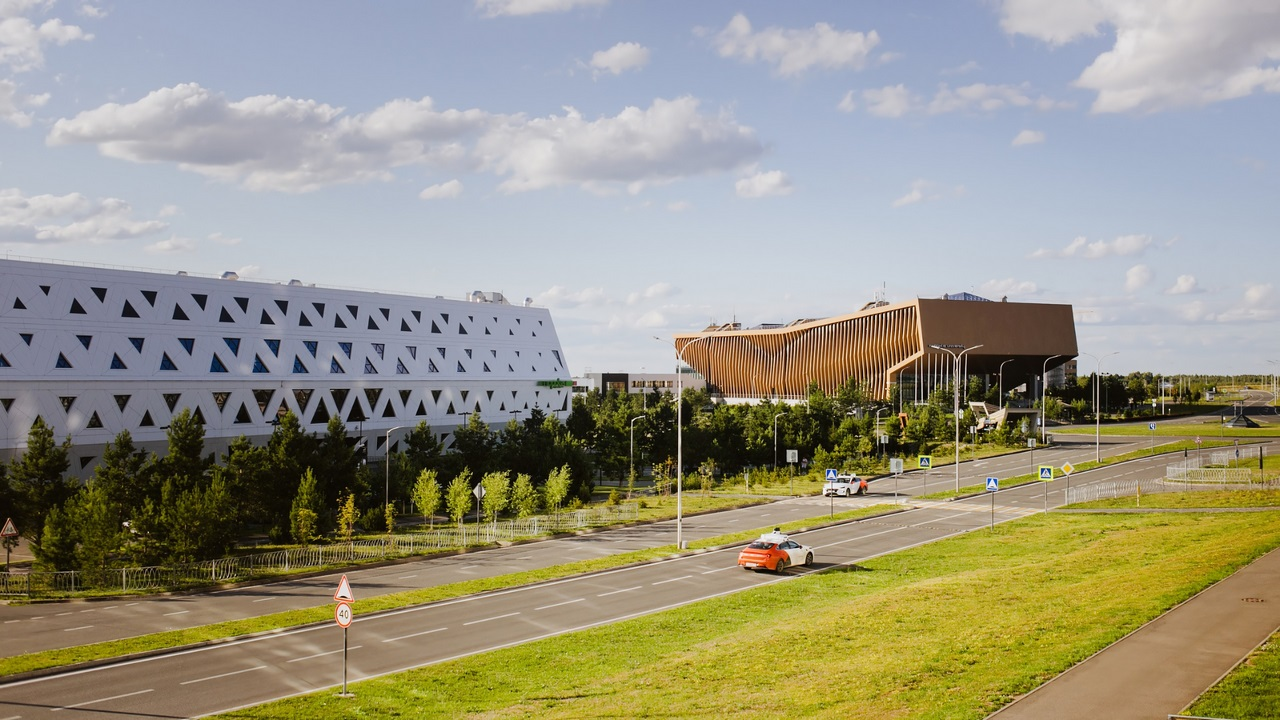sign: (333, 574, 354, 601), (334, 602, 353, 628), (1037, 464, 1055, 482), (1059, 461, 1074, 477), (917, 454, 932, 470), (985, 476, 999, 493), (825, 467, 838, 482), (1194, 434, 1203, 445), (1149, 421, 1156, 430)
